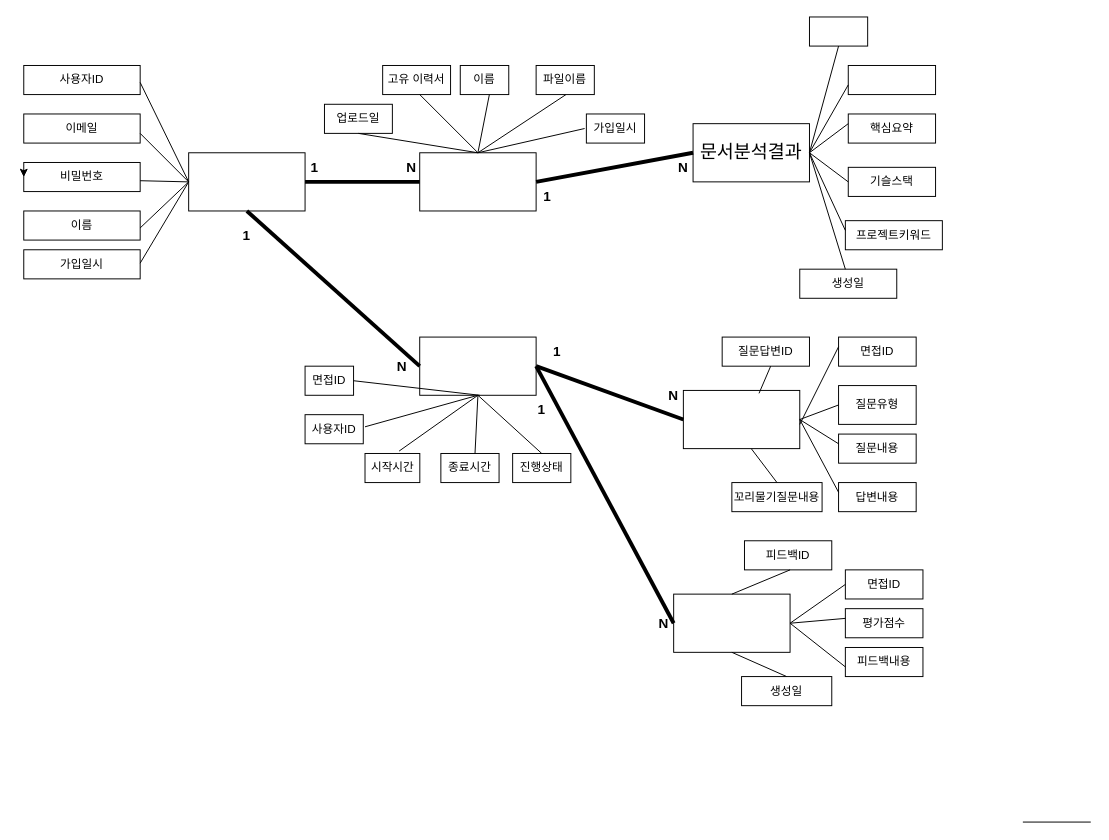
Image size: 1109x840. Some labels were removed from this diagram. Here are the shapes that lost their labels. From the top down, the centre of each, then its label:
the point at 838,31: 분석ID
the point at 891,80: 이력서ID
the point at 246,181: USER
the point at 477,181: 이력서
the point at 477,365: 면접이력
the point at 741,419: 질문답변기록
the point at 731,622: AI피드백
